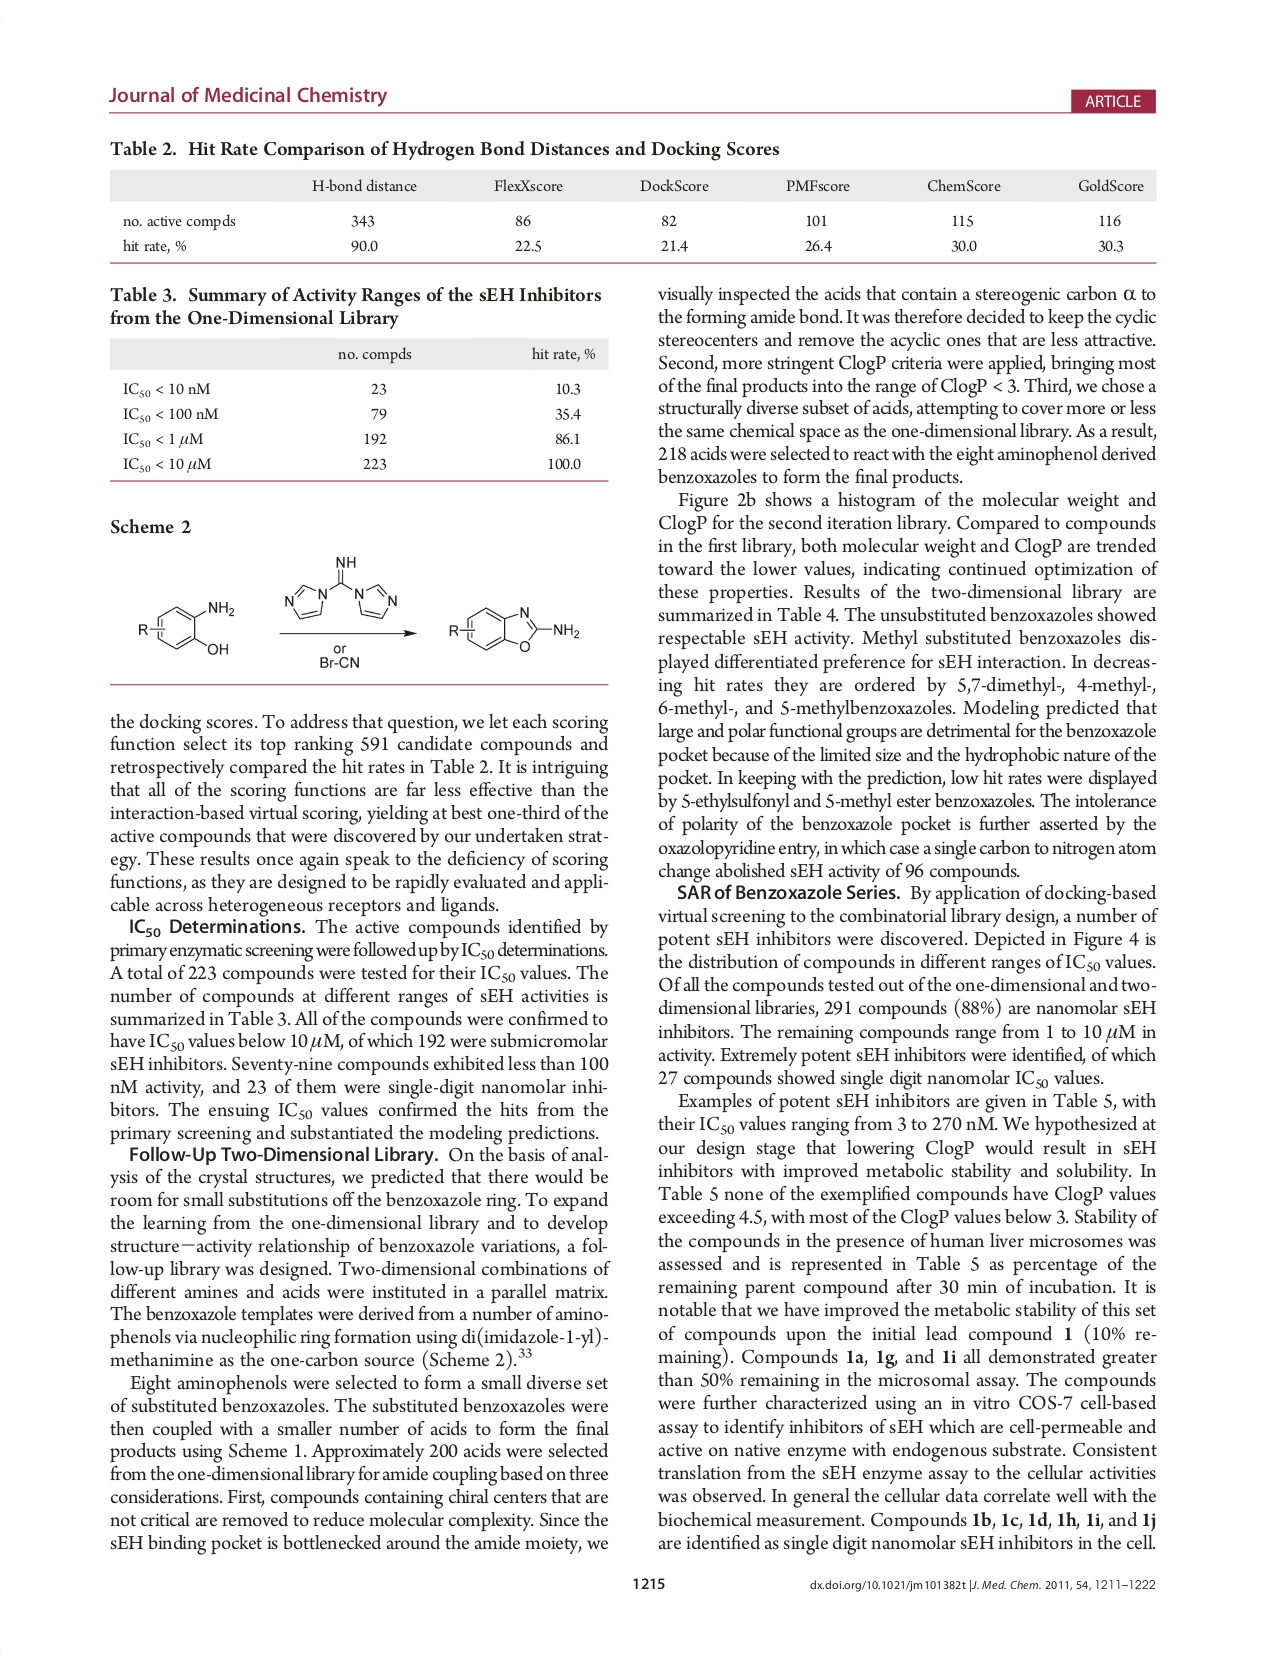exist_molecular: (283, 552, 402, 622), (442, 601, 588, 653), (132, 588, 235, 660)
